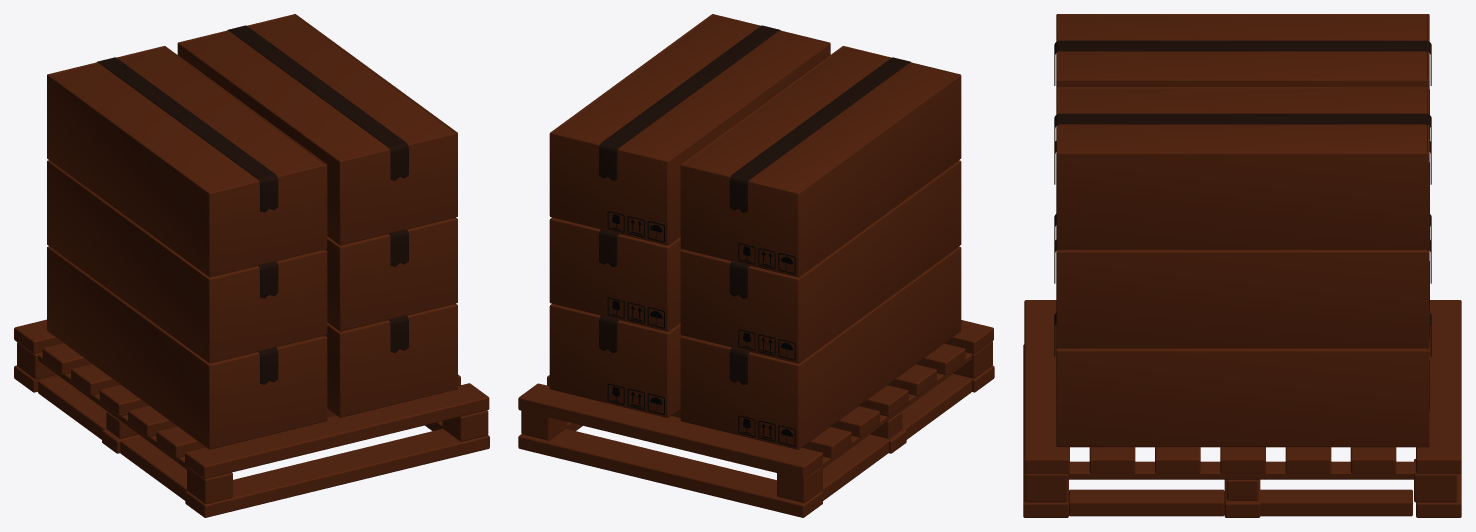
3 views of the same model, side by side, from view 1: azimuth 30°, elevation 25°; view 2: azimuth 150°, elevation 25°; view 3: azimuth 270°, elevation 25° (orthographic). The views are drawn at different scales.
Parts seen in each view (by area): view 1: Plane.034, Plane.023, Plane, Plane.033, Plane.063, Palete, Plane.064, Plane.044, Plane.054, Plane.026, Plane.004, Plane.032 (+7 smaller); view 2: Plane.034, Plane, Plane.023, Plane.063, Plane.033, Palete, Plane.064, Plane.054, Plane.044, Plane.026, Plane.004, Plane.062 (+7 smaller); view 3: Plane.064, Plane.054, Plane.044, Plane.033, Plane.063, Palete, Plane.004, Plane.032, Plane.062, Plane.034, Plane.014, Plane.026 (+4 smaller).
Part boxes in pixels (left/top/right/bottom): Plane.034: left=47, top=46, right=327, bottom=277; Plane.023: left=47, top=160, right=327, bottom=363; Plane: left=47, top=246, right=327, bottom=449; Plane.033: left=50, top=47, right=323, bottom=192; Plane.063: left=181, top=15, right=454, bottom=160; Palete: left=14, top=319, right=489, bottom=478; Plane.064: left=177, top=14, right=457, bottom=245; Plane.044: left=325, top=303, right=457, bottom=417; Plane.054: left=325, top=217, right=457, bottom=331; Plane.026: left=14, top=365, right=489, bottom=517; Plane.004: left=38, top=376, right=442, bottom=500; Plane.032: left=97, top=57, right=278, bottom=212; Plane.034: left=680, top=46, right=961, bottom=277; Plane: left=680, top=246, right=961, bottom=449; Plane.023: left=680, top=160, right=961, bottom=363; Plane.063: left=553, top=15, right=827, bottom=160; Plane.033: left=684, top=47, right=957, bottom=192; Palete: left=518, top=320, right=993, bottom=479; Plane.064: left=549, top=14, right=830, bottom=245; Plane.054: left=549, top=217, right=682, bottom=331; Plane.044: left=549, top=303, right=682, bottom=417; Plane.026: left=518, top=365, right=994, bottom=517; Plane.004: left=566, top=375, right=971, bottom=500; Plane.062: left=599, top=25, right=780, bottom=180; Plane.064: left=1056, top=87, right=1429, bottom=249; Plane.054: left=1056, top=249, right=1429, bottom=348; Plane.044: left=1056, top=348, right=1429, bottom=447; Plane.033: left=1059, top=15, right=1426, bottom=79; Plane.063: left=1059, top=88, right=1426, bottom=152; Palete: left=1024, top=300, right=1461, bottom=473; Plane.004: left=1068, top=489, right=1412, bottom=516; Plane.032: left=1054, top=40, right=1431, bottom=85; Plane.062: left=1054, top=113, right=1431, bottom=158; Plane.034: left=1056, top=14, right=1429, bottom=87; Plane.014: left=1067, top=461, right=1414, bottom=479; Plane.026: left=1023, top=344, right=1461, bottom=517.
Size of the model in its own units: 1.39 by 1.45 by 1.62.
